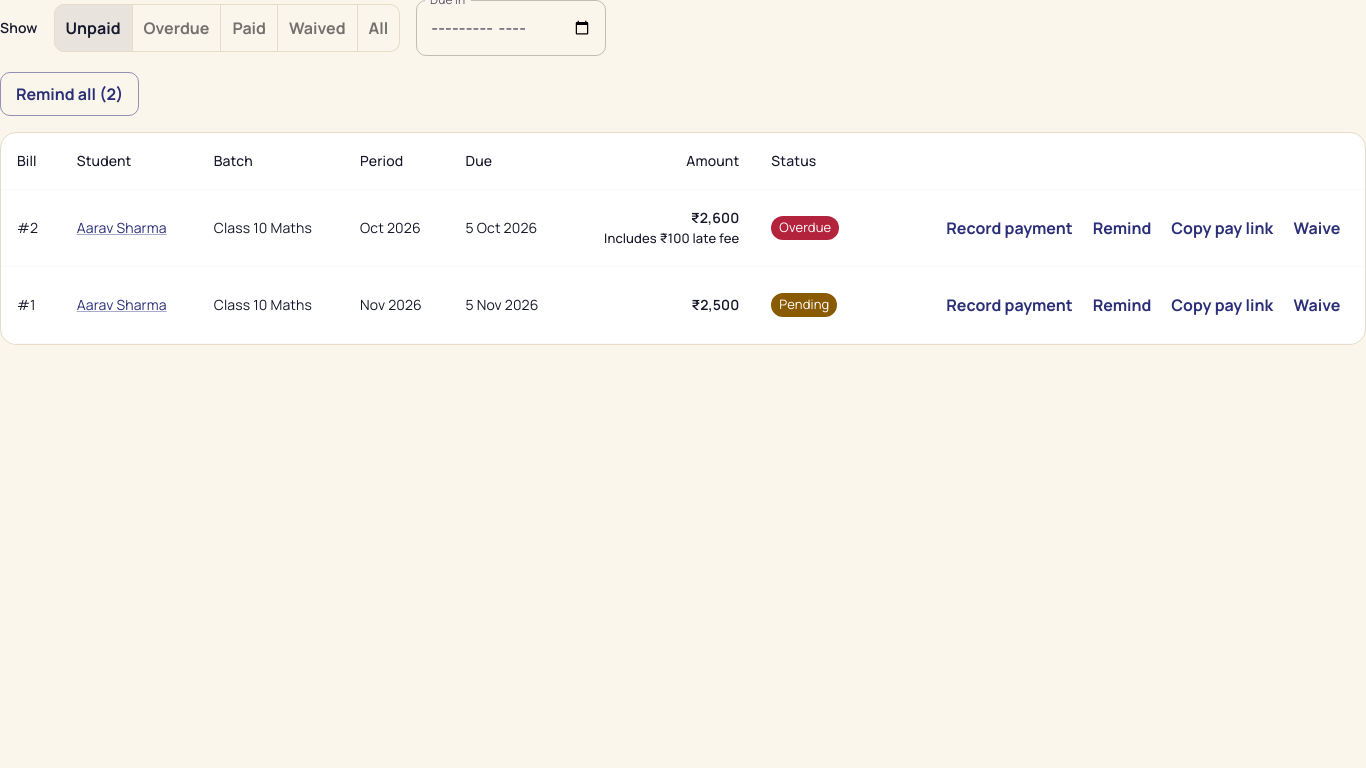
Test: InvoiceList › waives a bill with a reason
Expected: the table is shown, [1,133,1365,344]
Click the button with aria-label "Waive bill #1": (1317, 305) [1285,283,1349,327]
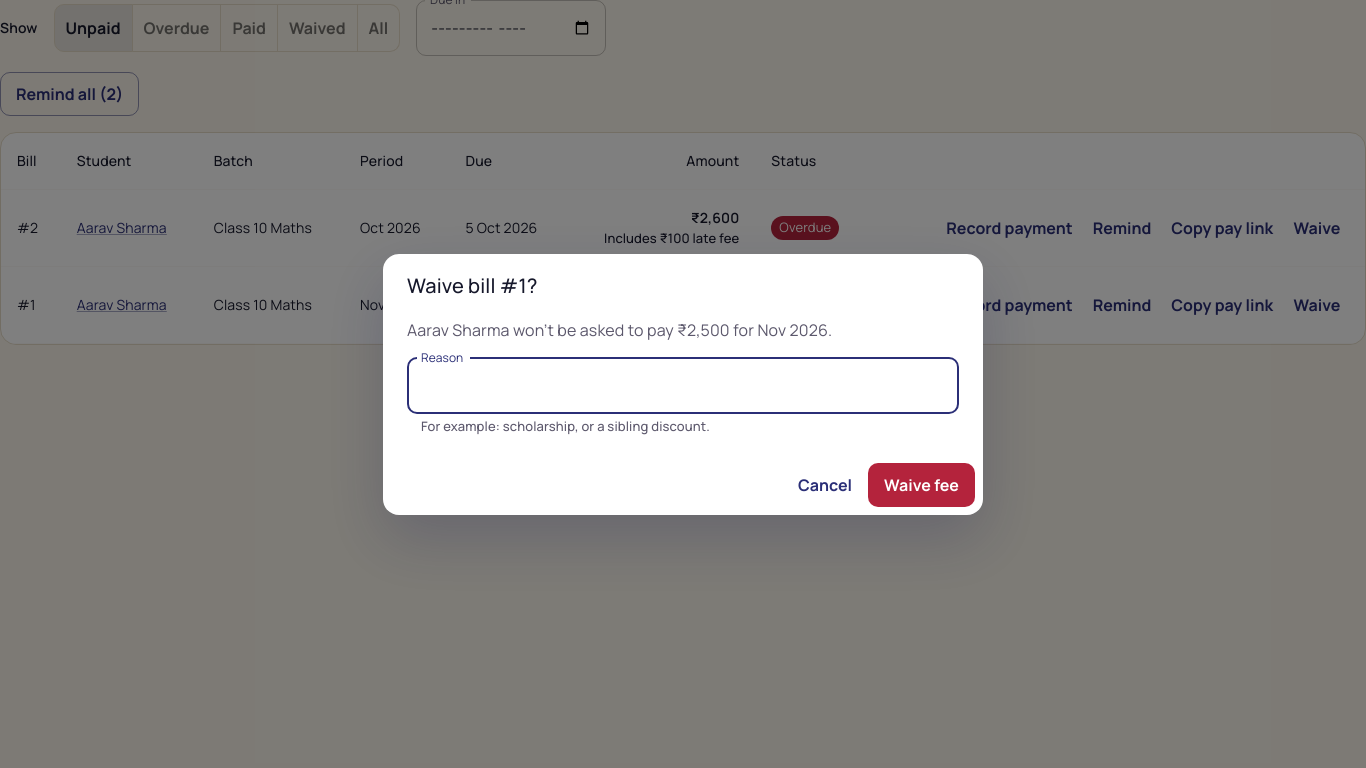
Expected: the dialog "Waive bill #1?" shows "Aarav Sharma won’t be asked to pay ₹2,500 for Nov 2026.", [407,318,832,340]
Click the button "Waive fee": (922, 484) [868,462,975,506]
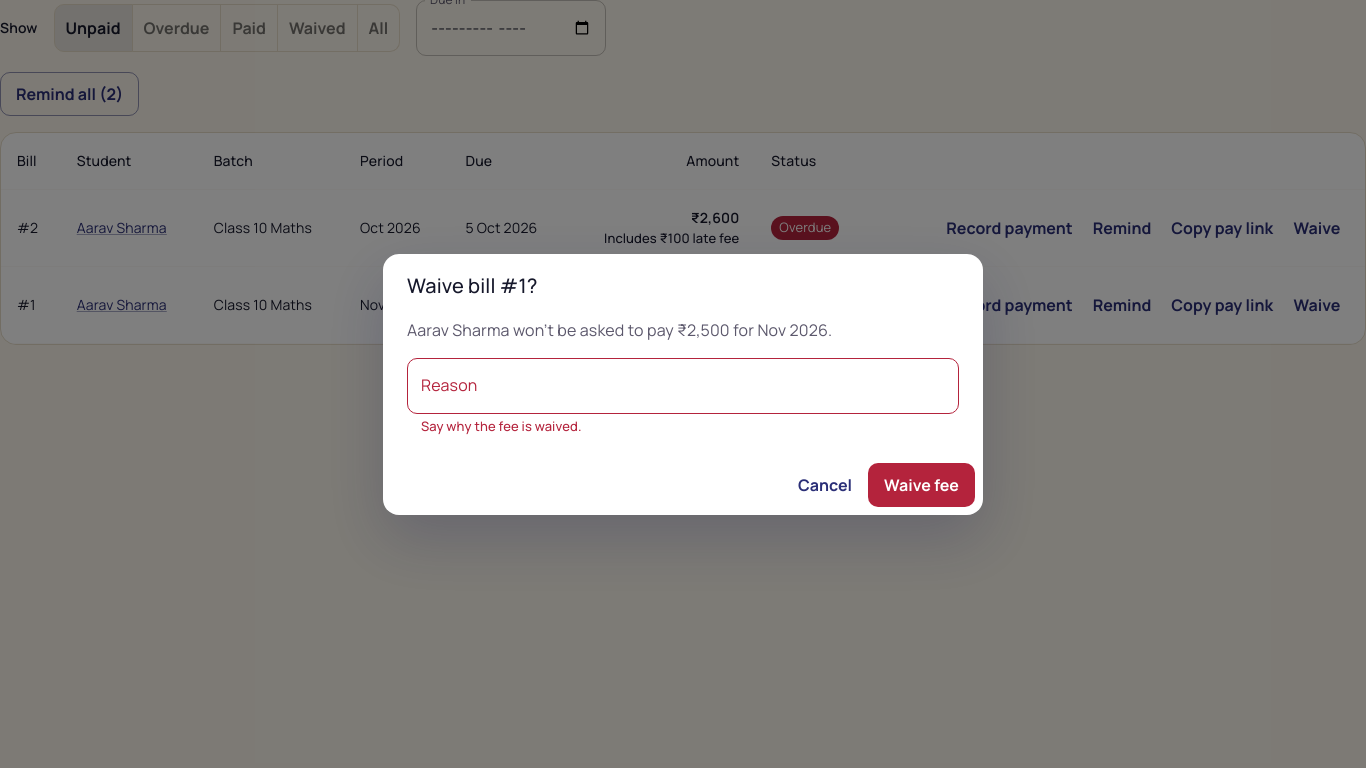
In the field labelled "Reason": (683, 386) [407,358,959,414], type "Scholarship"
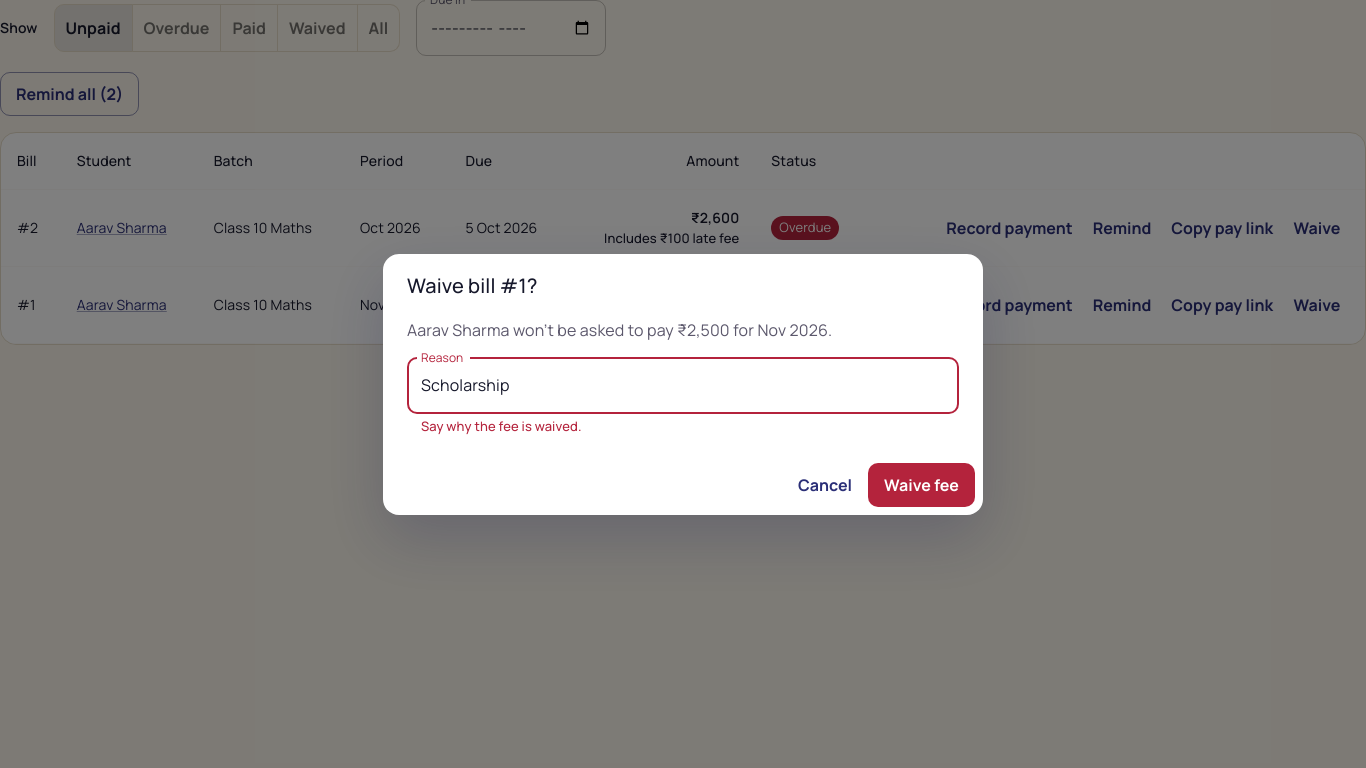
Click the button "Waive fee": (922, 484) [868,462,975,506]
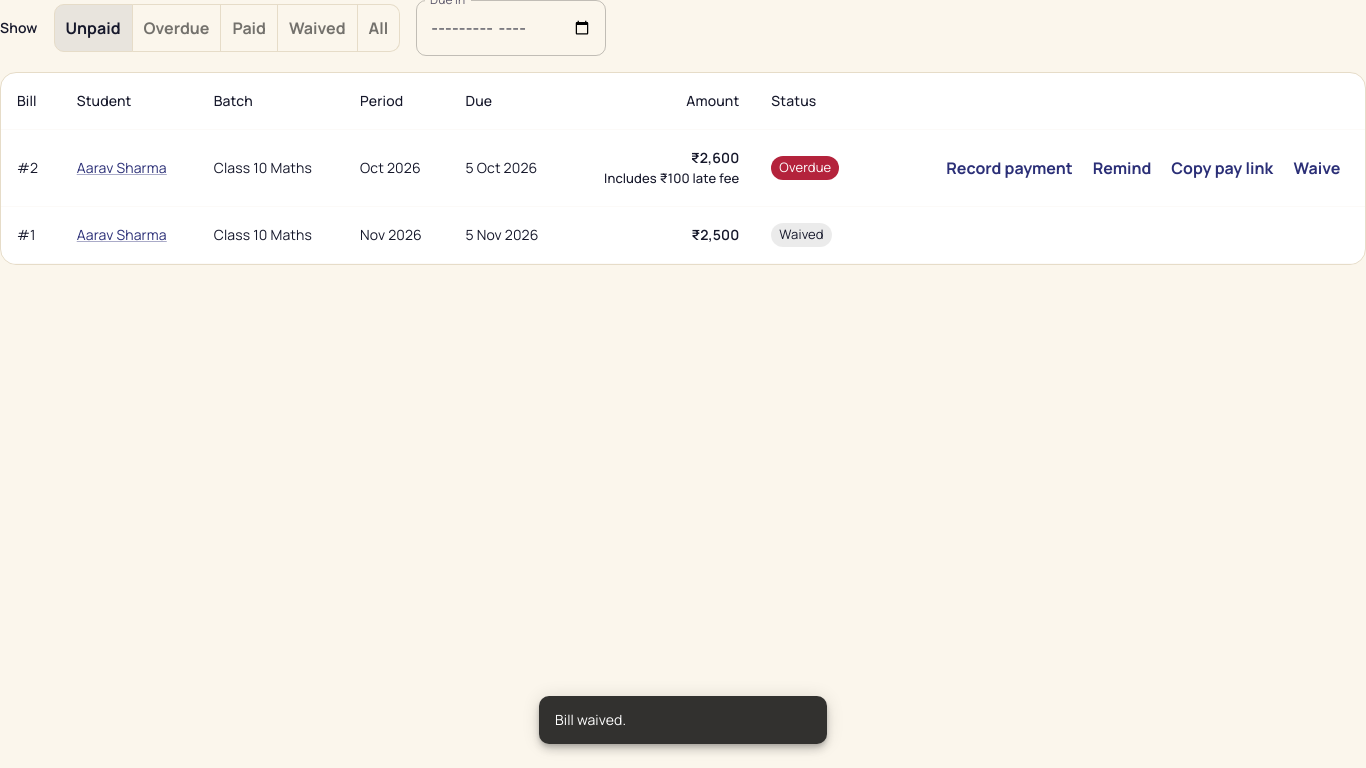
Expected: the text "Bill waived." is shown, [555,710,626,729]
Expected: the 3rd row shows "Waived", [779,225,824,243]
Expected: the heading "Waive bill #1" is gone
